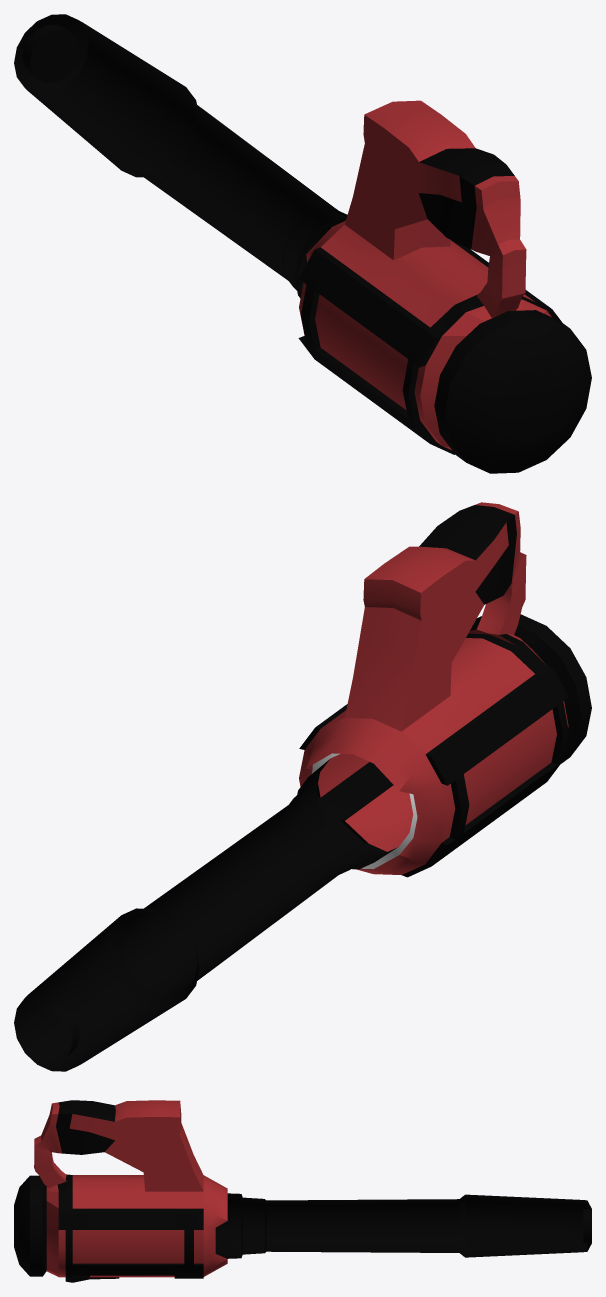
File: LeafBlower.fbx
3 renders of one model, top to bottom at view 1: azimuth 30°, elevation 25°; view 2: azimuth 150°, elevation 25°; view 3: azimuth 270°, elevation 25°, orthographic. The views are drawn at different scales.
Visible parts, largest first — view 1: Cylinder; view 2: Cylinder; view 3: Cylinder.
Boxes of the visible parts, x1,y1,x2,y2 form: Cylinder: (14,14,591,473); Cylinder: (14,502,591,1071); Cylinder: (14,1100,591,1282).
Bounding box in the file's own units: 807 × 1424 × 4236.
